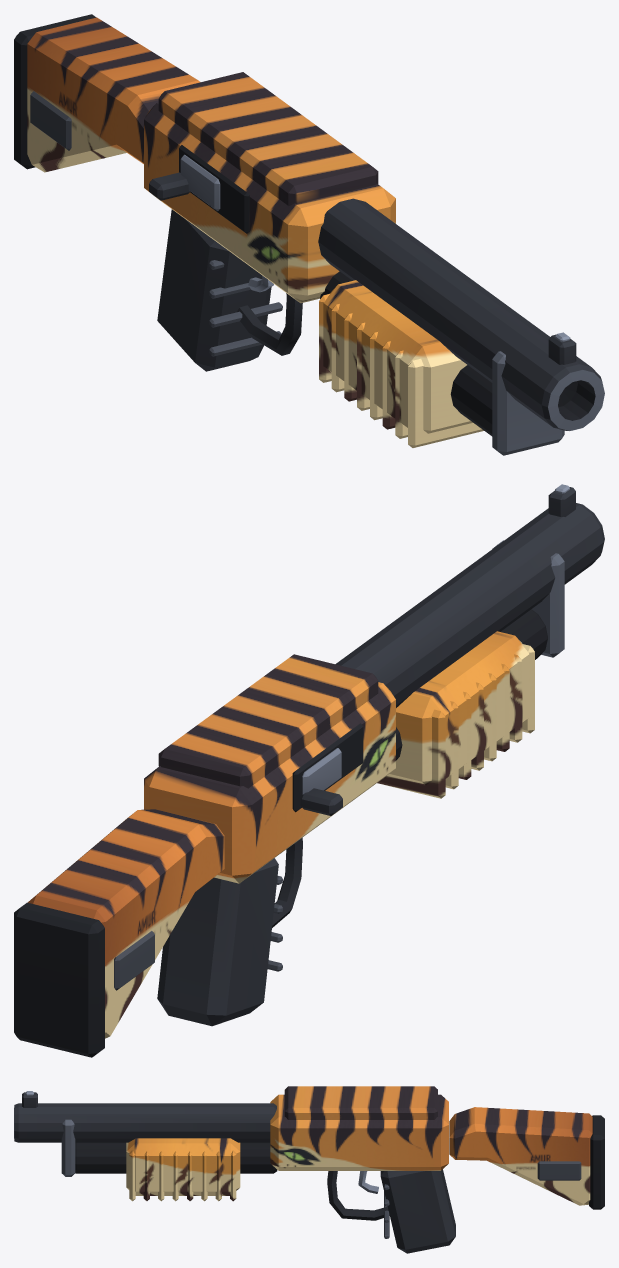
The model's file is Pump_Amur.glb.
The picture shows the model from 3 angles, top to bottom: view 1: azimuth 30°, elevation 25°; view 2: azimuth 150°, elevation 25°; view 3: azimuth 270°, elevation 25°; orthographic projection. The views are drawn at different scales.
Visible parts, largest first — view 1: Main, Stock, Pump, Bolt; view 2: Main, Stock, Pump, Bolt; view 3: Main, Stock, Pump.
Boxes of the visible parts, x1,y1,x2,y2 form: Main: (144,72,604,455); Stock: (14,14,200,172); Pump: (319,280,483,447); Bolt: (149,154,220,210); Main: (144,484,604,1026); Stock: (14,809,224,1057); Pump: (377,631,534,798); Bolt: (300,748,342,815); Main: (14,1086,455,1253); Stock: (449,1107,604,1209); Pump: (126,1138,240,1201).
Bounding box in the file's own units: 0.68 × 1.15 × 3.95.
Materials: 2 (1 with a texture image).
